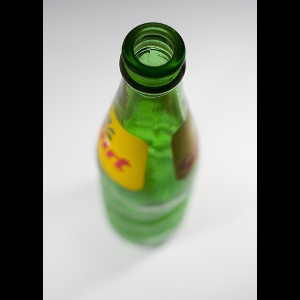emptybottle: (97, 22, 201, 245)
